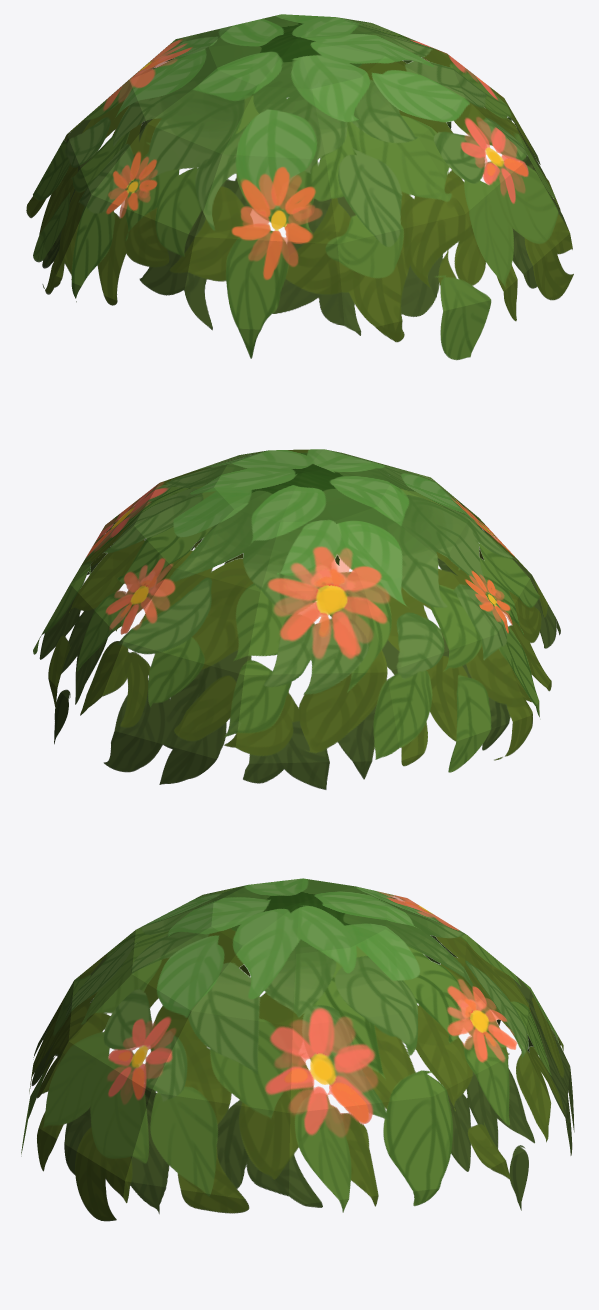
Rendered from SM_Bush_03.fbx.
3 views of the same model, one above another, from view 1: azimuth 30°, elevation 25°; view 2: azimuth 150°, elevation 25°; view 3: azimuth 270°, elevation 25° (orthographic). The views are drawn at different scales.
Parts seen in each view (by area): view 1: pSphere11; view 2: pSphere11; view 3: pSphere11.
Part boxes in pixels (box(x1,y1,x2,y2)): pSphere11: box(26, 14, 573, 360); pSphere11: box(33, 449, 560, 789); pSphere11: box(21, 878, 574, 1221).
Size of the model in its own units: 70.37 by 35.61 by 67.76.
1 material, 1 textured.
